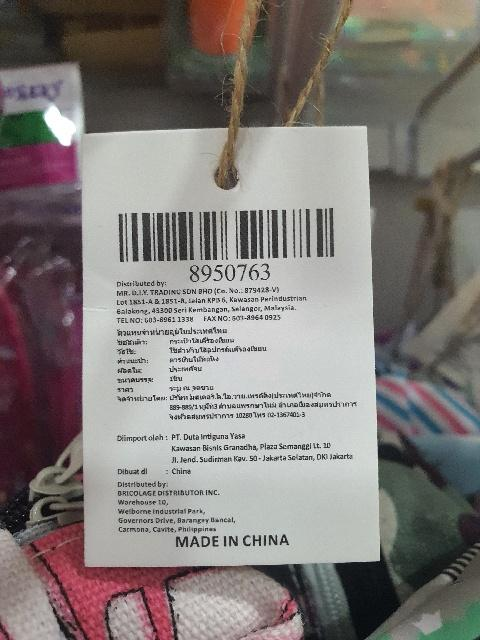Barcode: (106, 199, 350, 283)
